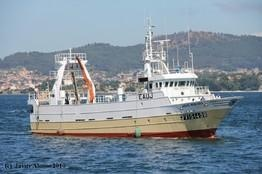otherboat: (22, 27, 247, 142)
